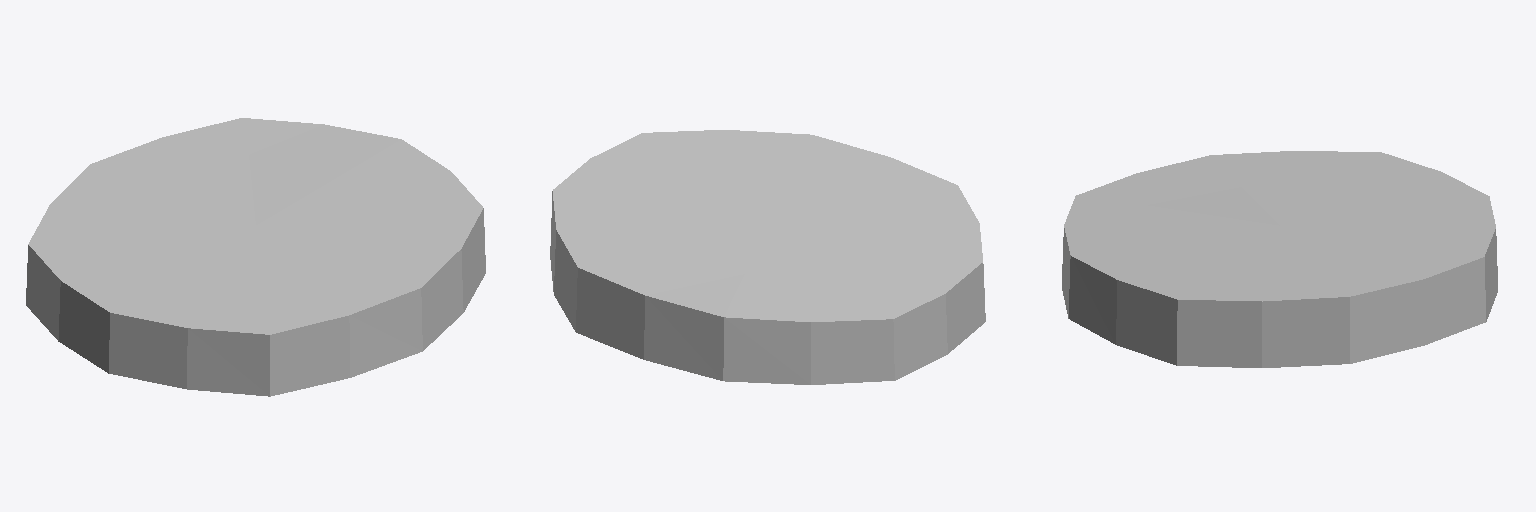
File: slice_13.obj
The picture shows the model from 3 angles: view 1: azimuth 30°, elevation 25°; view 2: azimuth 150°, elevation 25°; view 3: azimuth 270°, elevation 25°; orthographic projection.
Parts seen in each view (by area): view 1: Mushroom.014_Cube.023; view 2: Mushroom.014_Cube.023; view 3: Mushroom.014_Cube.023.
Part boxes in pixels (x1,y1,x2,y2): Mushroom.014_Cube.023: (26, 118, 485, 396); Mushroom.014_Cube.023: (550, 130, 985, 384); Mushroom.014_Cube.023: (1062, 151, 1497, 367).
Size of the model in its own units: 0.7485 by 0.179 by 0.75.